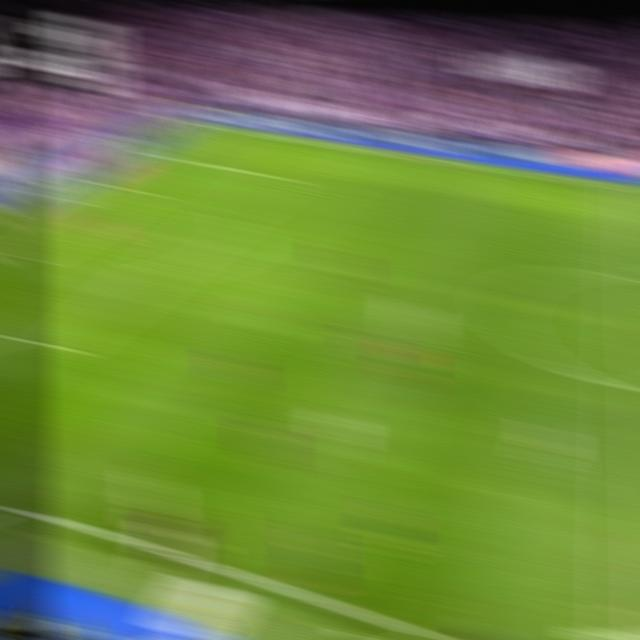bigarea_bottom_inner: (42, 333, 77, 361)
bigarea_top_inner: (262, 168, 293, 184)
bigarea_top_outter: (133, 145, 165, 161)
bottom_arc_area_intersection: (141, 261, 174, 283)
corner: (187, 120, 217, 131)
halfcircle_bottom: (607, 370, 640, 402)
halfcircle_top: (612, 264, 640, 290)
midline_top_intersection: (616, 179, 640, 196)
smallarea_top_inner: (124, 184, 153, 196)
top_arc_area_intersection: (215, 205, 247, 223)
